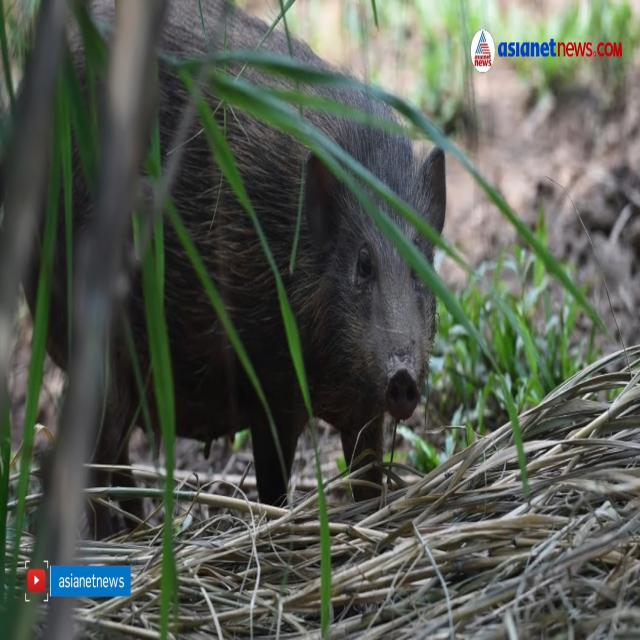WILD BOAR: (176, 65, 456, 465)
